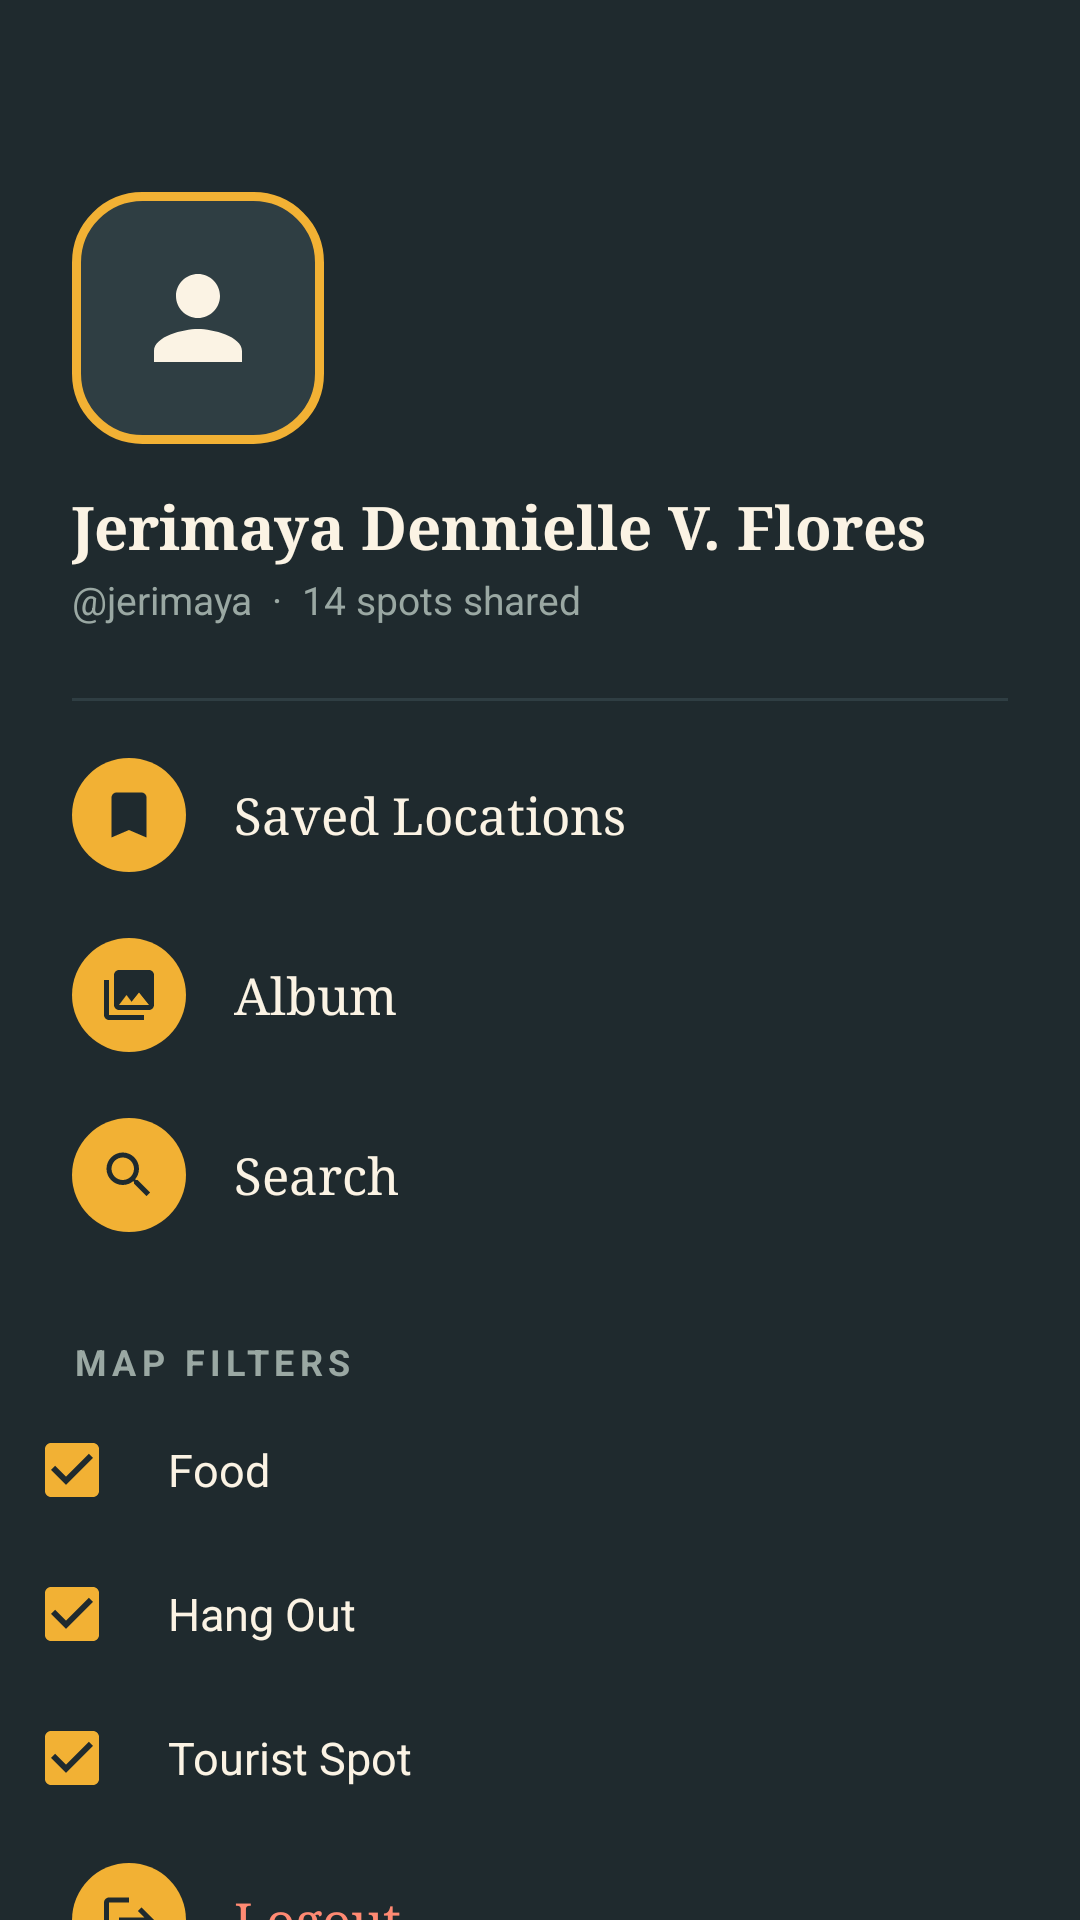

Screen size 1080 x 1920. Icon name, then its center in pixels as (x,y):
bookmark: (129,815)
Profile picture: (198,318)
